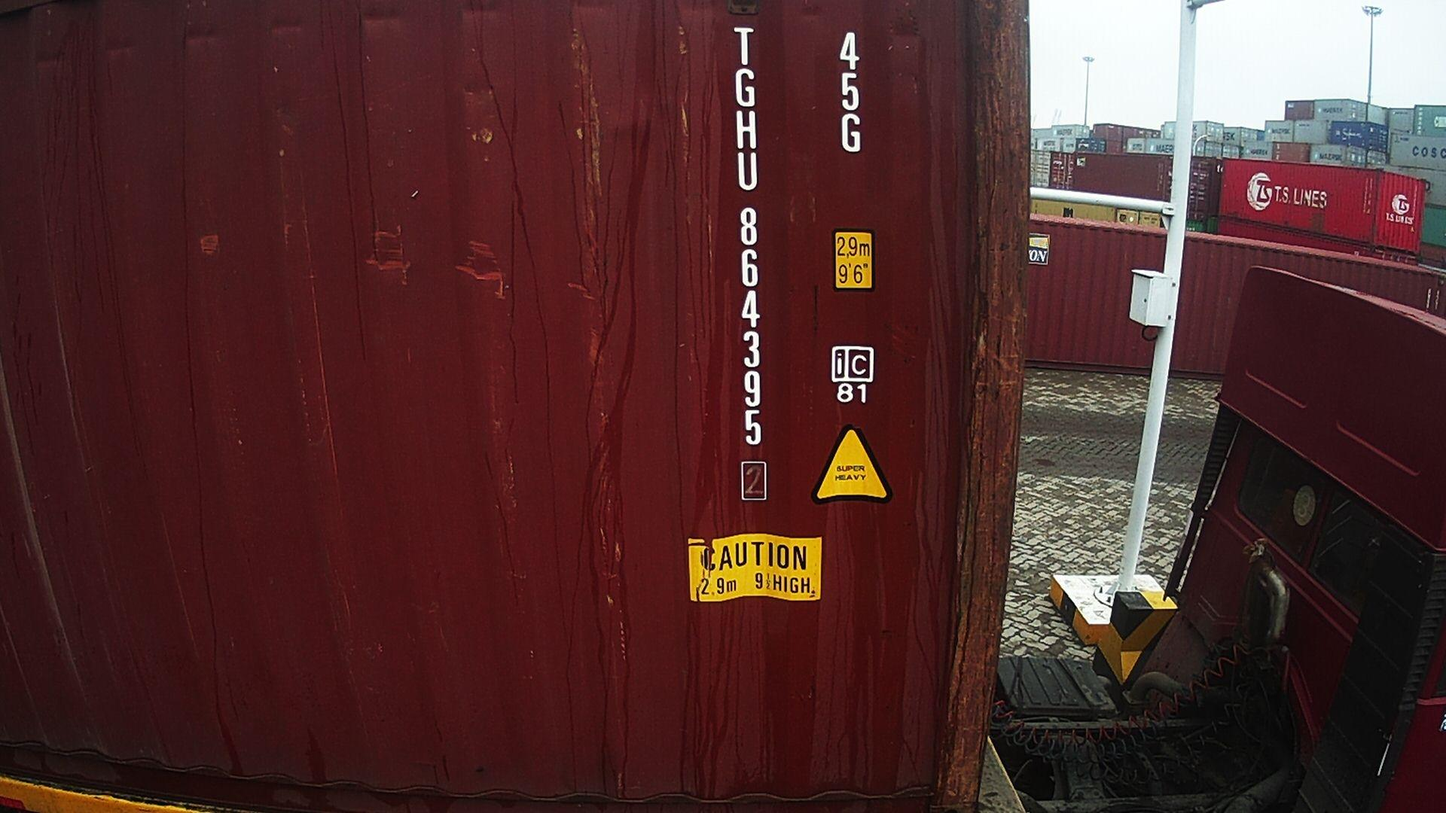container-numbers: (728, 24, 771, 503), (834, 29, 868, 159)
